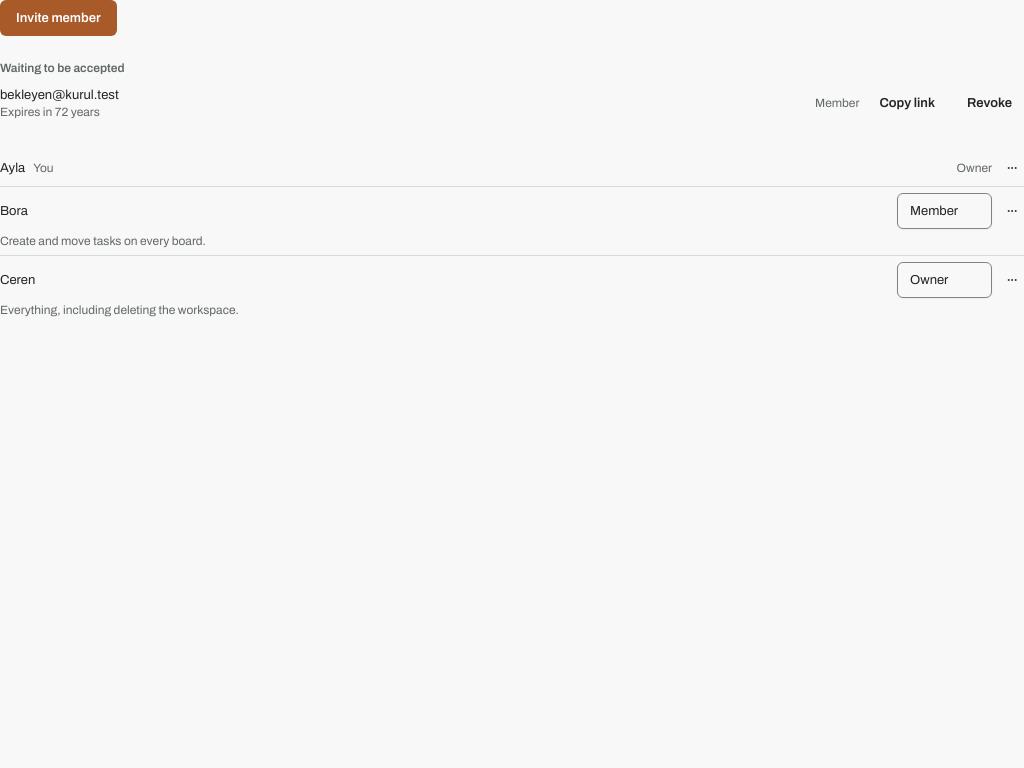
MembersSettings — revoking an invitation › drops the row from the pending list once the server confirms
This screenshot has width=1024, height=768.
Check: the text "bekleyen@kurul.test" is shown, box [0,86,119,104]
Click the button "Revoke" at (990, 103), box [955,87,1023,119]
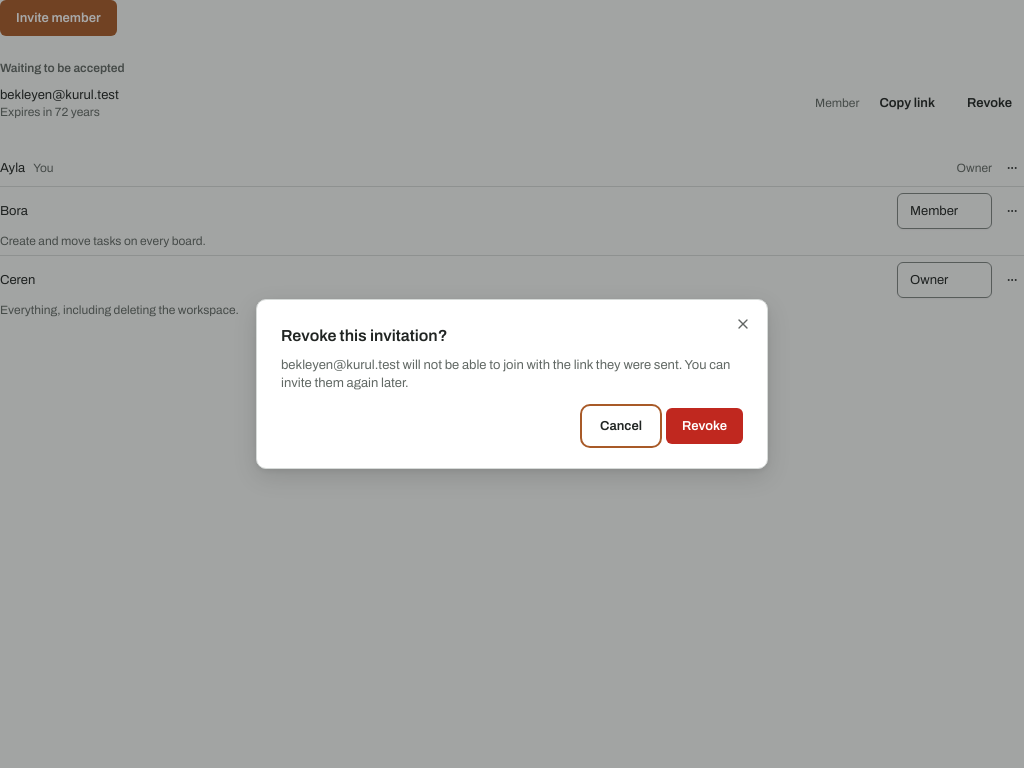
Click the button "Revoke" at (704, 426), box [666,408,743,444]
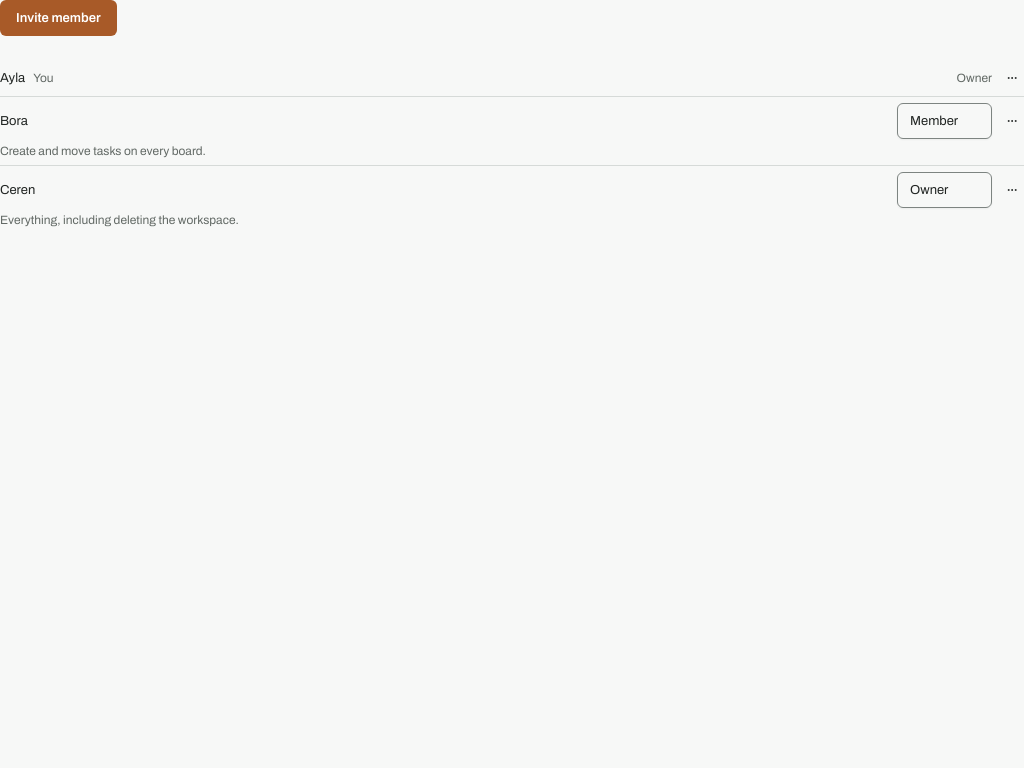
Check: the text "bekleyen@kurul.test" is gone
